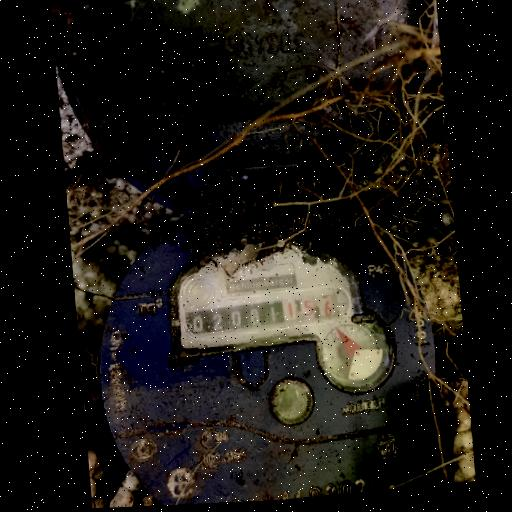0: (191, 310, 207, 334), (229, 304, 244, 329)
1: (267, 300, 281, 324), (283, 299, 297, 322)
2: (209, 307, 226, 332)
5: (302, 296, 316, 321)
6: (322, 293, 338, 318)
8: (247, 303, 263, 326)
border_water_meter_number: (180, 285, 350, 342)
